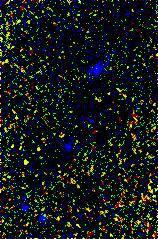star: (11, 149, 41, 179)
